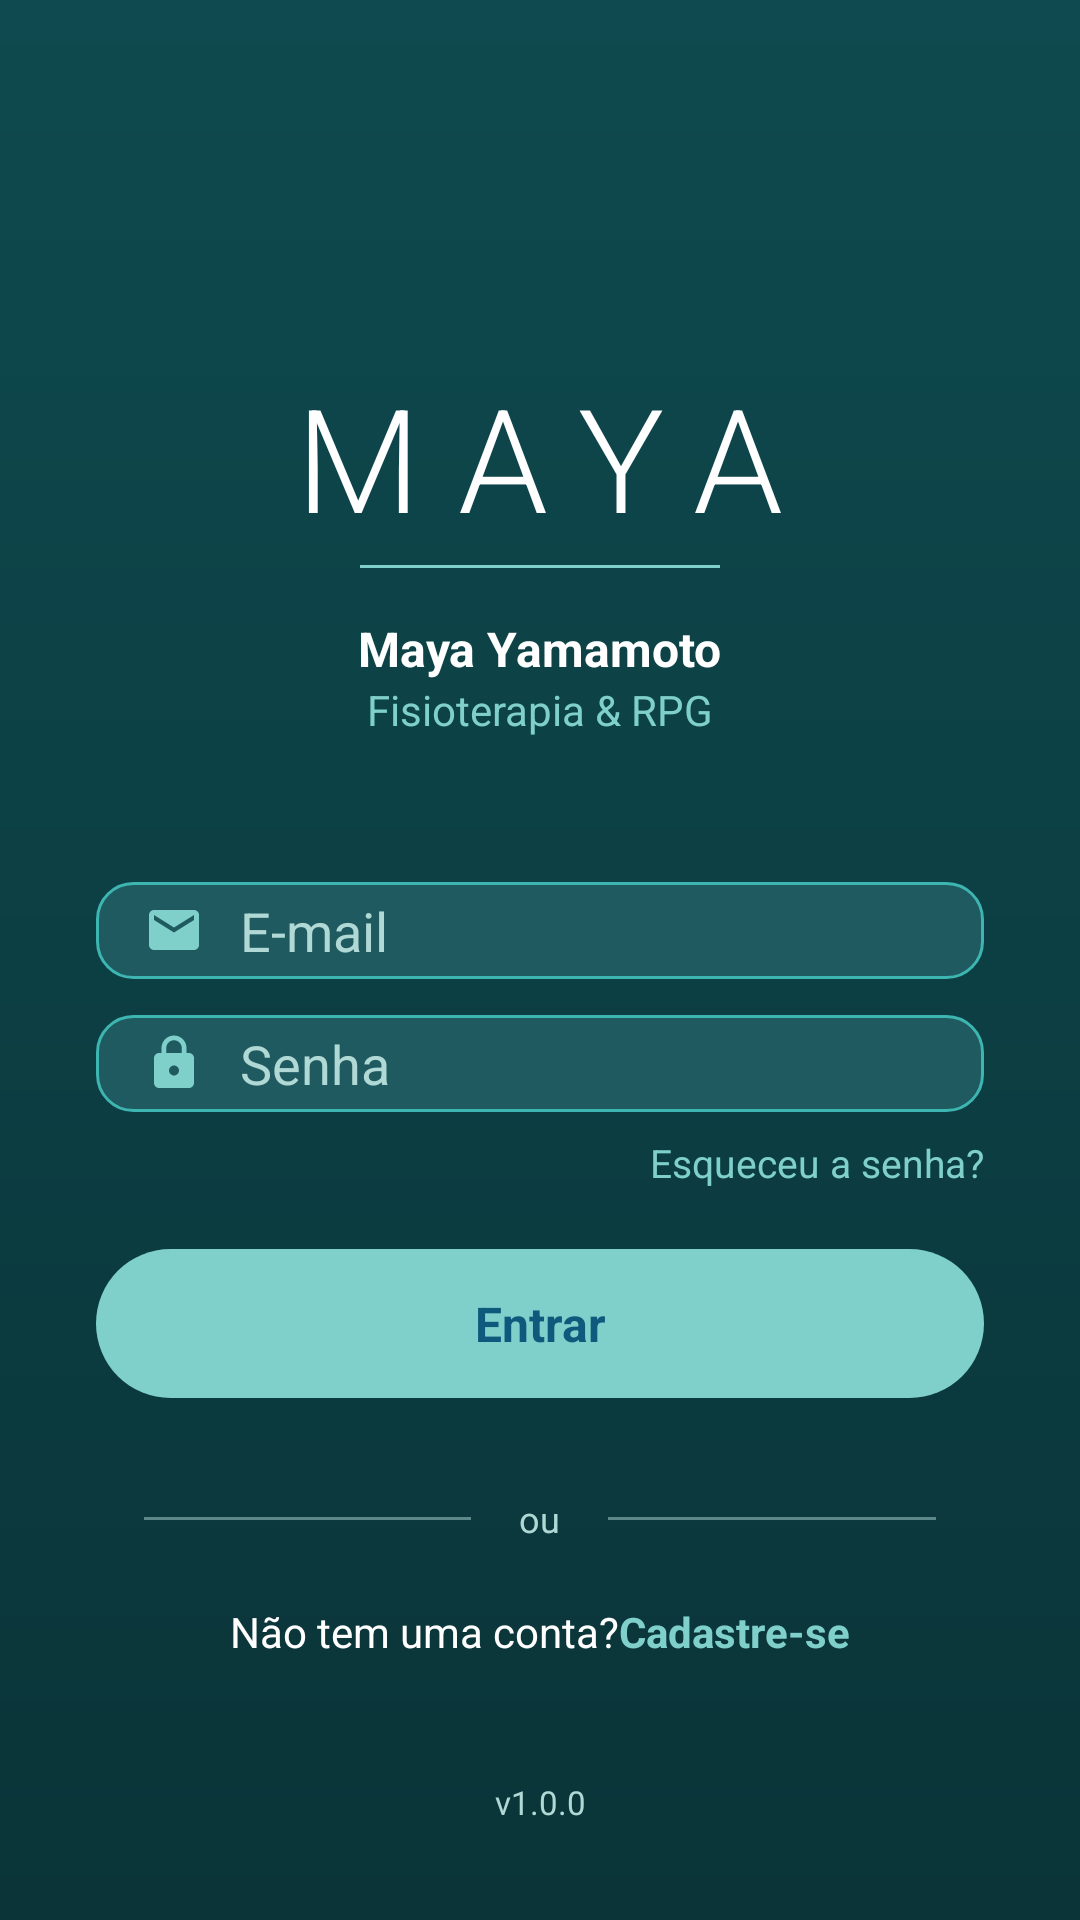

Icon bounding boxes for this 1080×1920 phone screenshot, format [x1, y1, x2, y2]:
lock: [154, 1035, 194, 1088]
